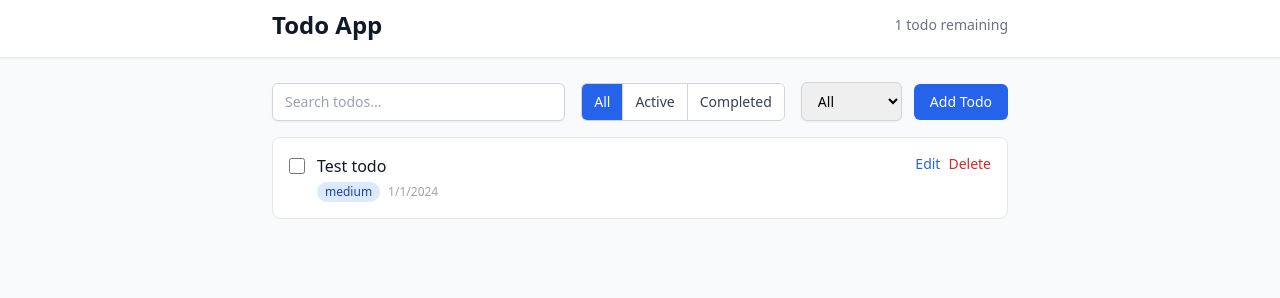
Test case: App › shows error banner on API failure
What coordinates should you click on to do the following:
click the button "Delete"
I would click on:
 (970, 164)
Its box is [948,154,991,174].
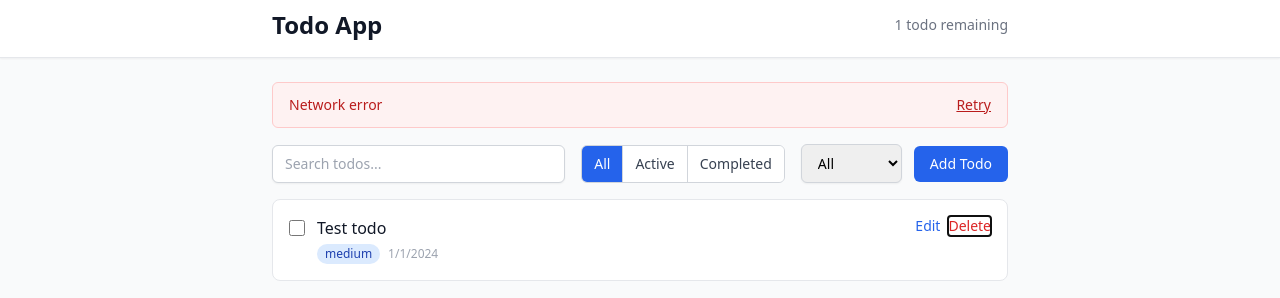
Result: the message shows "Network error" at [289,95,382,114]
